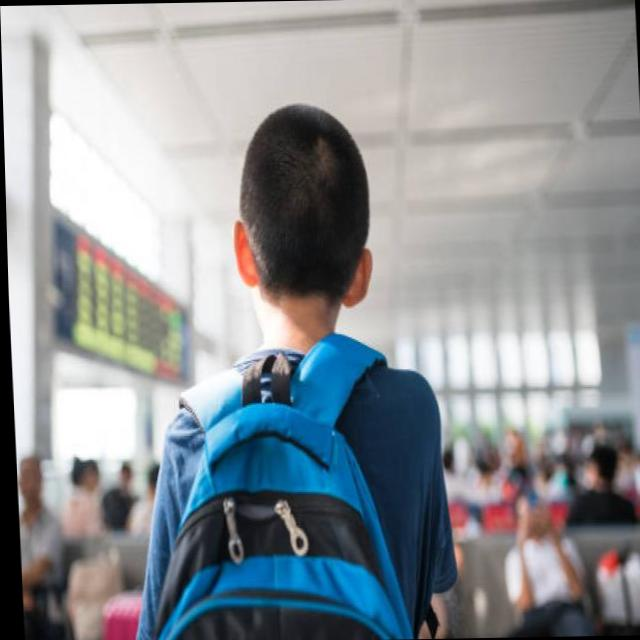no helmet: (214, 96, 385, 354)
